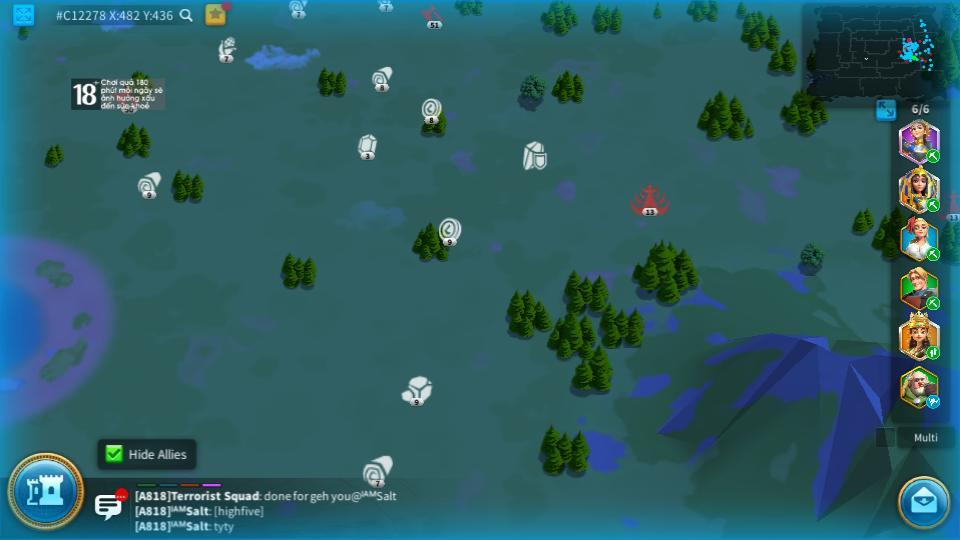gem-z-out: (355, 134, 378, 159)
march_farming: (923, 197, 940, 212), (925, 149, 941, 162), (926, 297, 942, 308), (928, 248, 941, 260)
march_marching: (925, 345, 941, 359), (925, 395, 942, 407)
